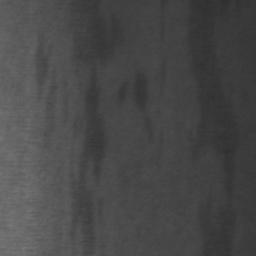Inclusion: (187, 0, 239, 193), (73, 72, 104, 252), (197, 200, 237, 256), (134, 70, 150, 109)
